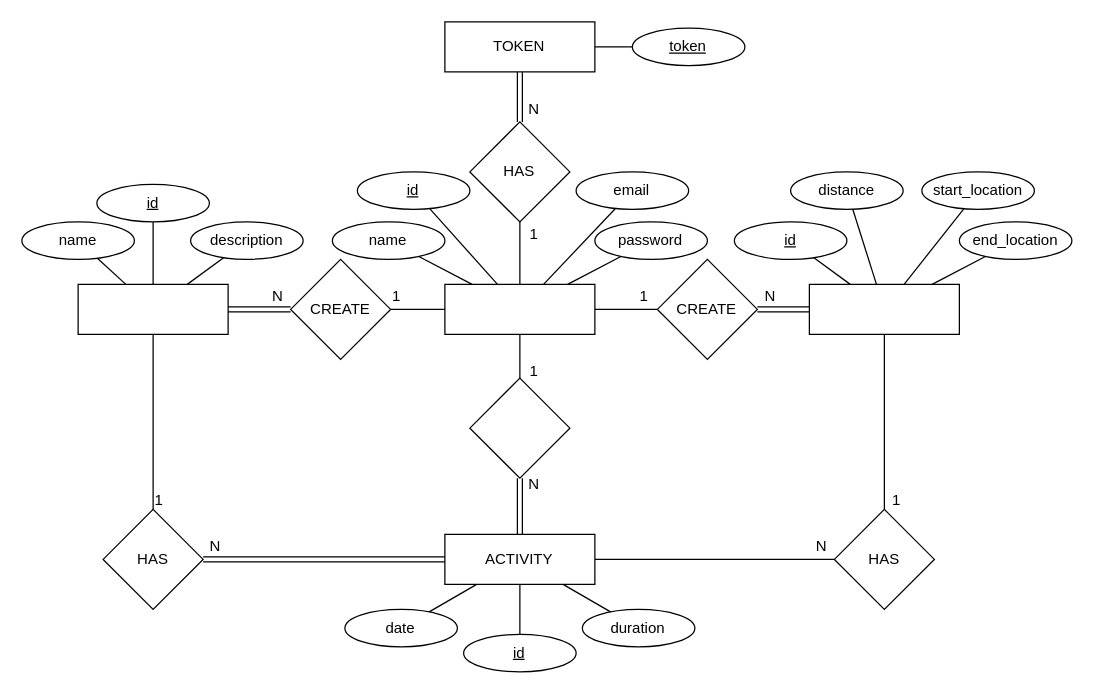
This 1094x694 diagram has some shape labels left out. Here are the shapes that lost their labels. From the top down, the centre of each, then its label:
At point 152,308: "SPORT".
At point 519,308: "USER".
At point 883,308: "ROUTE".
At point 519,427: "PRATICE".
